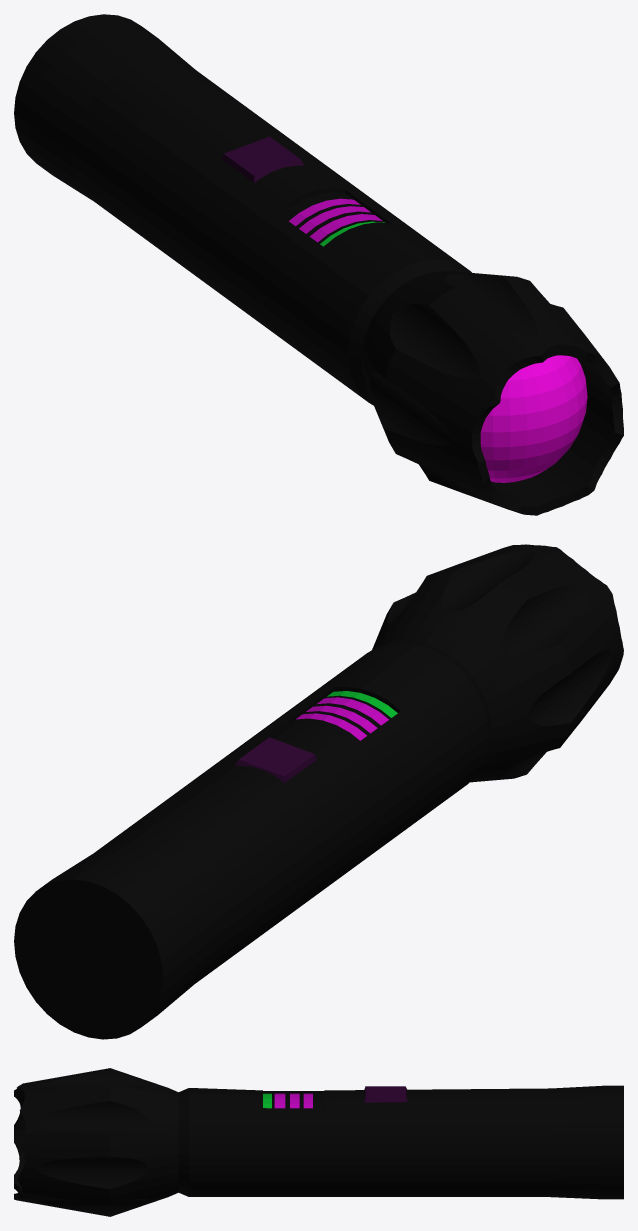
The model's file is UV flashlight.fbx.
3 renders of one model, top to bottom at view 1: azimuth 30°, elevation 25°; view 2: azimuth 150°, elevation 25°; view 3: azimuth 270°, elevation 25°, orthographic. The views are drawn at different scales.
Parts seen in each view (by area): view 1: Фиол Фонарик; view 2: Фиол Фонарик; view 3: Фиол Фонарик.
Boxes of the visible parts, x1,y1,x2,y2 form: Фиол Фонарик: (14, 14, 623, 515); Фиол Фонарик: (14, 544, 623, 1039); Фиол Фонарик: (14, 1068, 623, 1216).
Size of the model in its own units: 0.0349 by 0.0349 by 0.1479.
